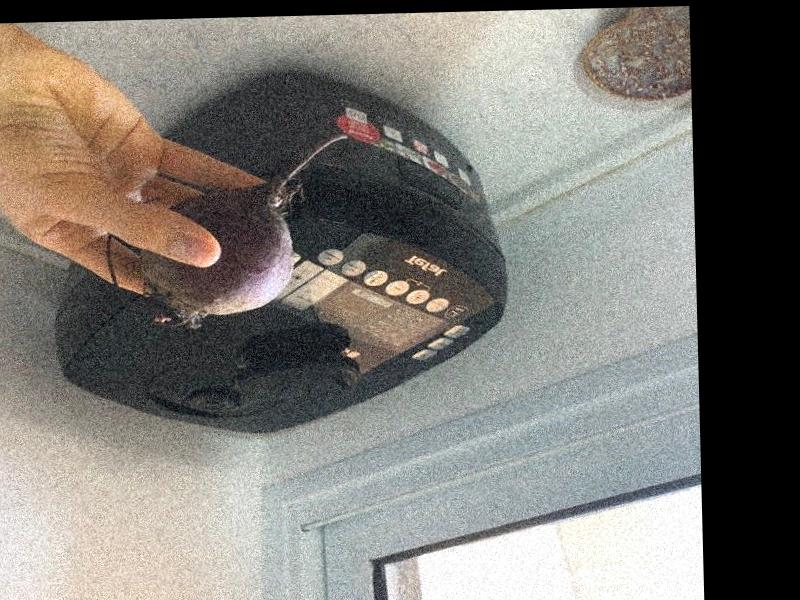Beet: (106, 131, 351, 330)
